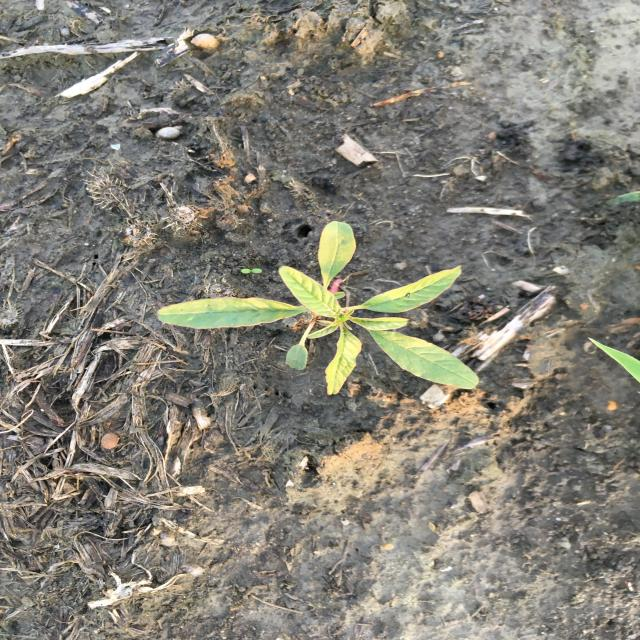Waterhemp: (156, 220, 481, 396)
